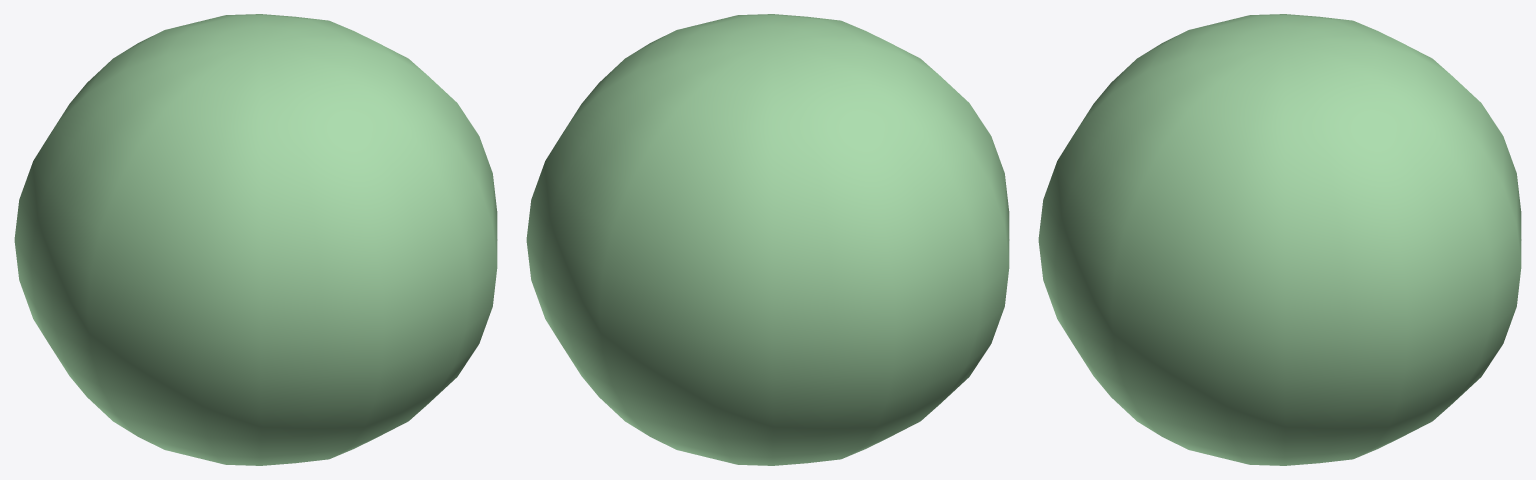
File: Cabbage.fbx
The picture shows the model from 3 angles, left to right: view 1: azimuth 30°, elevation 25°; view 2: azimuth 150°, elevation 25°; view 3: azimuth 270°, elevation 25°; orthographic projection.
Parts seen in each view (by area): view 1: Cabbage; view 2: Cabbage; view 3: Cabbage.
Part boxes in pixels (x1,y1,x2,y2): Cabbage: (14,14,497,465); Cabbage: (526,14,1009,465); Cabbage: (1038,14,1521,465).
Bounding box in the file's own units: 0.18 × 0.1615 × 0.18.
